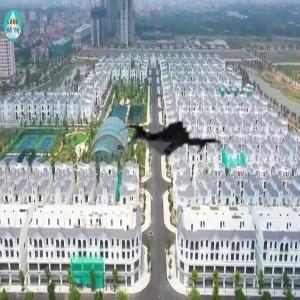drone: (125, 89, 223, 187)
